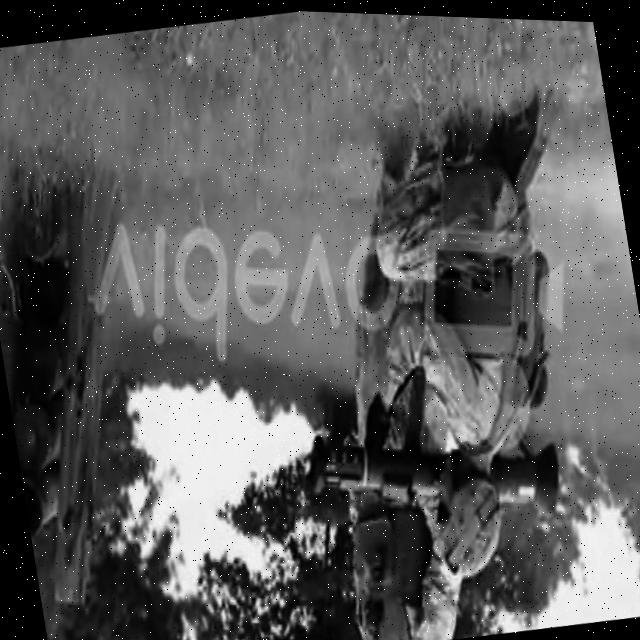rocket: (300, 391, 570, 542)
